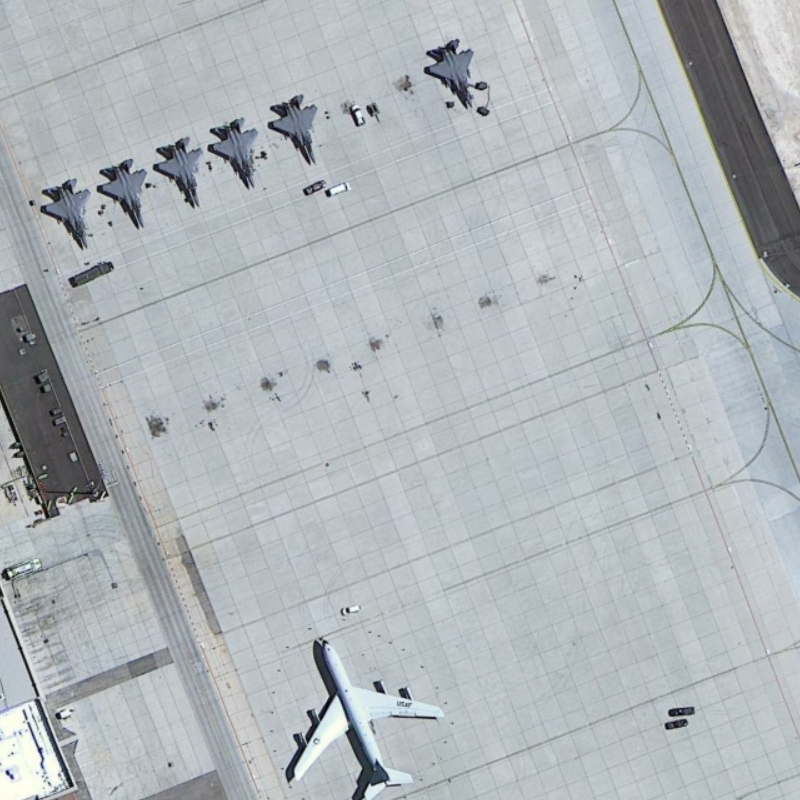A11: (276, 623, 453, 800)
A13: (260, 85, 330, 166), (33, 173, 102, 254), (204, 115, 273, 190), (95, 154, 154, 240), (420, 34, 485, 112), (151, 131, 215, 209)
